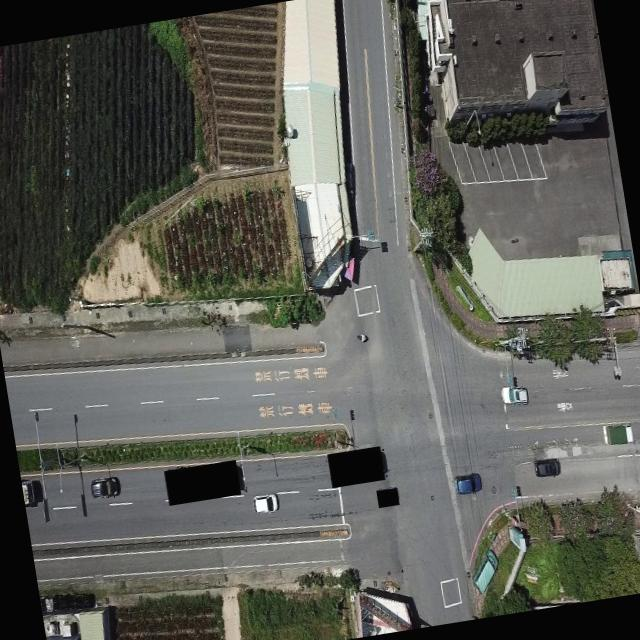bike: (356, 330, 370, 346)
bus: (468, 546, 500, 599)
car: (88, 474, 121, 501), (452, 469, 482, 496), (500, 382, 530, 408), (251, 491, 280, 516), (532, 454, 562, 478), (22, 476, 40, 514)
